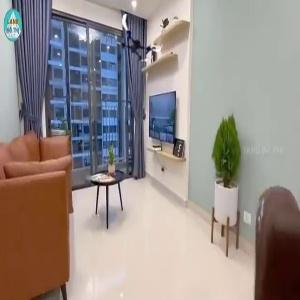drone: (114, 18, 166, 70)
